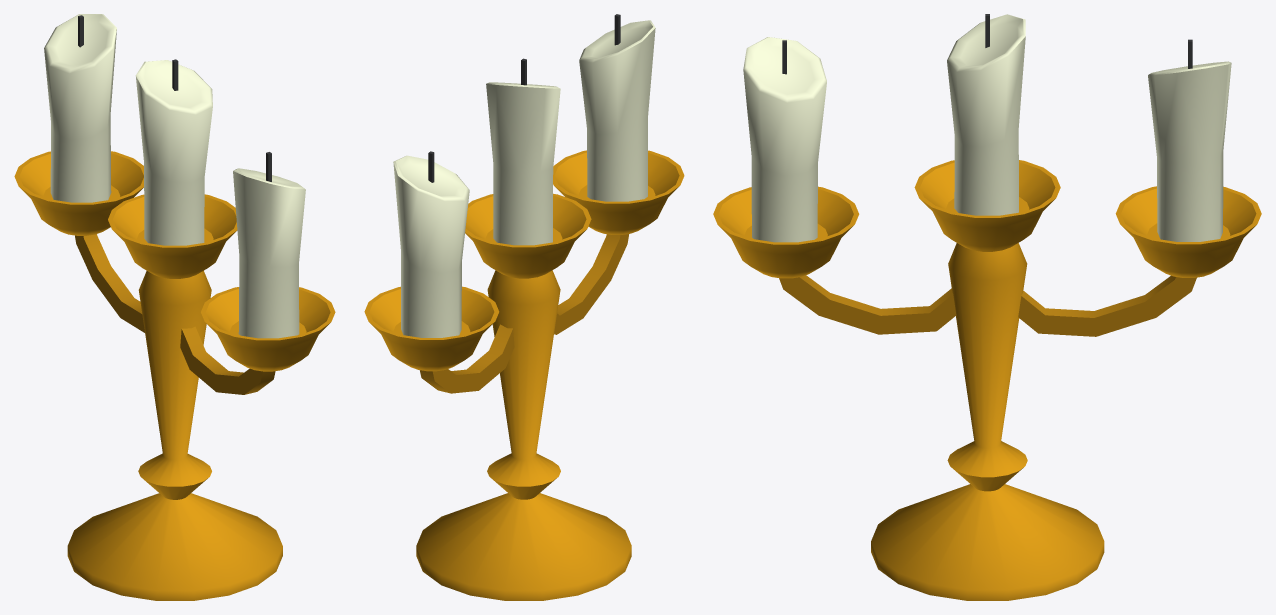
File: Candelabra.fbx
3 views of the same model, side by side, from view 1: azimuth 30°, elevation 25°; view 2: azimuth 150°, elevation 25°; view 3: azimuth 270°, elevation 25° (orthographic). The views are drawn at different scales.
Visible parts, largest first — view 1: Candelabra; view 2: Candelabra; view 3: Candelabra.
Boxes of the visible parts, left/top/right/bottom form: Candelabra: left=14, top=14, right=335, bottom=600; Candelabra: left=364, top=14, right=684, bottom=600; Candelabra: left=713, top=14, right=1261, bottom=600.
Bounding box in the file's own units: 0.2636 × 0.6802 × 0.6294.
